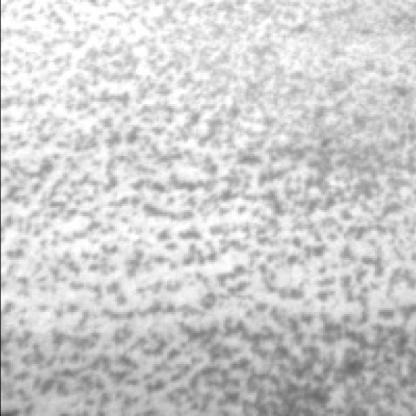pitted_surface: (0, 0, 414, 406)
